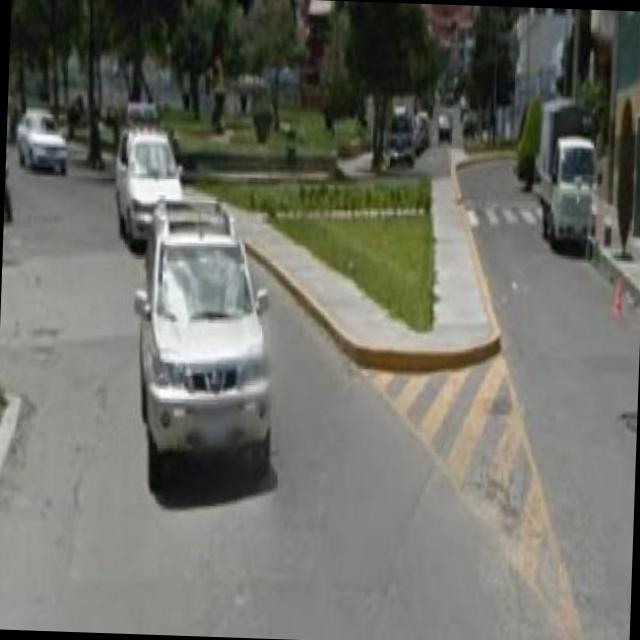car: (132, 202, 286, 484), (105, 110, 194, 240), (14, 92, 70, 166)
